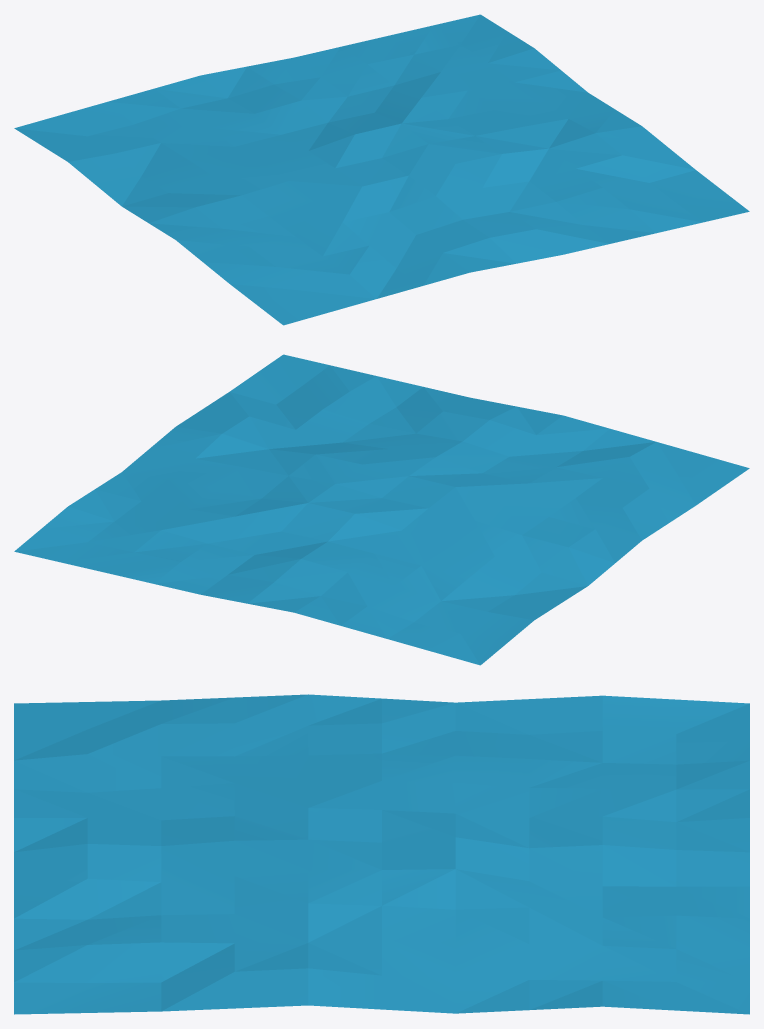
The model's file is terrains_terrain-plane-water.fbx.
3 views of the same model, one above another, from view 1: azimuth 30°, elevation 25°; view 2: azimuth 150°, elevation 25°; view 3: azimuth 270°, elevation 25° (orthographic). The views are drawn at different scales.
Parts seen in each view (by area): view 1: terrains_terrain_plane_water; view 2: terrains_terrain_plane_water; view 3: terrains_terrain_plane_water.
Part boxes in pixels (bbox=[...]): terrains_terrain_plane_water: bbox=[14, 14, 749, 325]; terrains_terrain_plane_water: bbox=[14, 354, 749, 665]; terrains_terrain_plane_water: bbox=[14, 694, 749, 1014].
Bounding box in the file's own units: 200 × 6.59 × 200.
